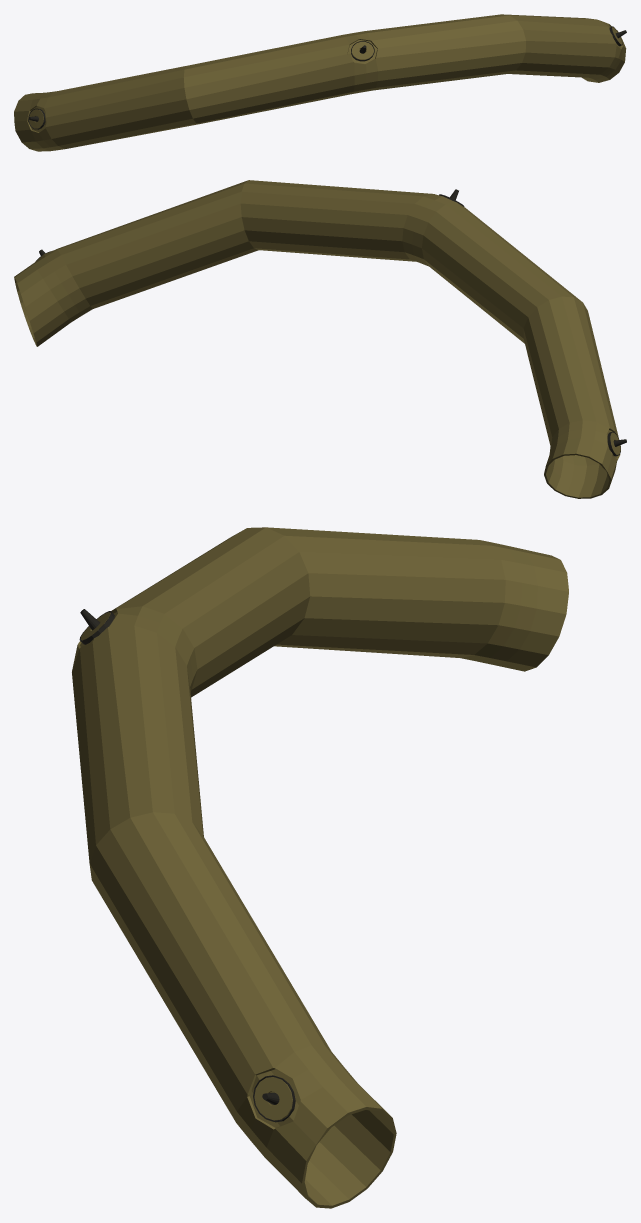
File: Hose_02.fbx
3 views of the same model, one above another, from view 1: azimuth 30°, elevation 25°; view 2: azimuth 150°, elevation 25°; view 3: azimuth 270°, elevation 25° (orthographic). The views are drawn at different scales.
Visible parts, largest first — view 1: pCylinder21; view 2: pCylinder21; view 3: pCylinder21.
Boxes of the visible parts, left/top/right/bottom form: pCylinder21: left=14, top=14, right=626, bottom=151; pCylinder21: left=14, top=180, right=626, bottom=498; pCylinder21: left=72, top=527, right=568, bottom=1208.
Size of the model in its own units: 60.86 by 16.18 by 23.52.
